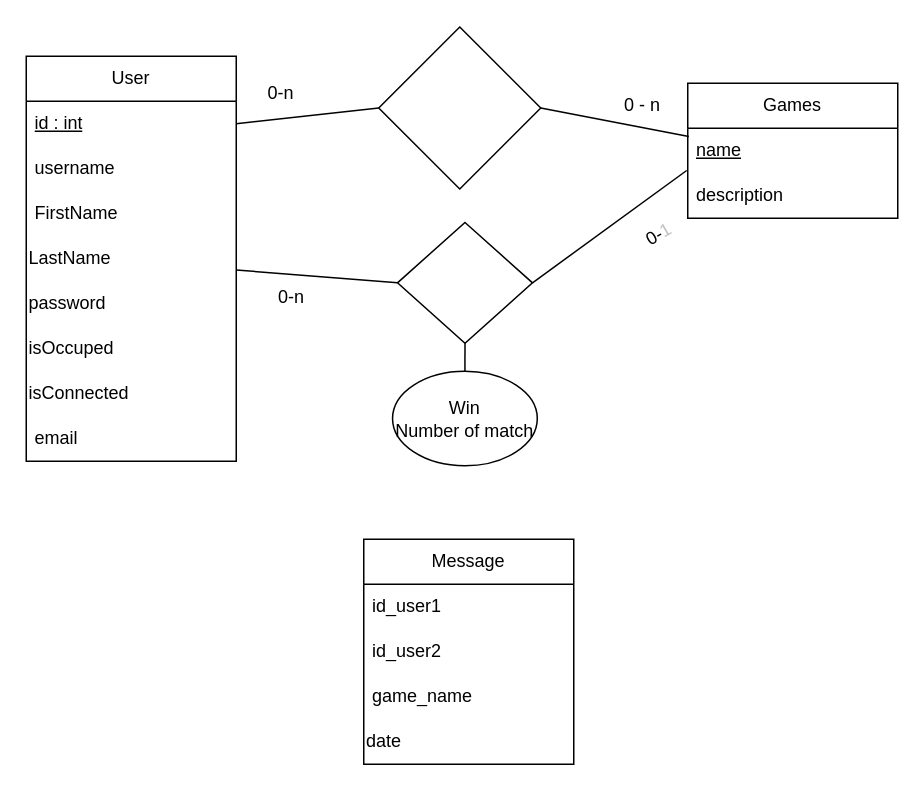
This 924x791 diagram has some shape labels left out. Each missing label, with the centre of its shape:
"FavGames" goes at point (459, 107).
"PlayedGame" goes at point (464, 282).
